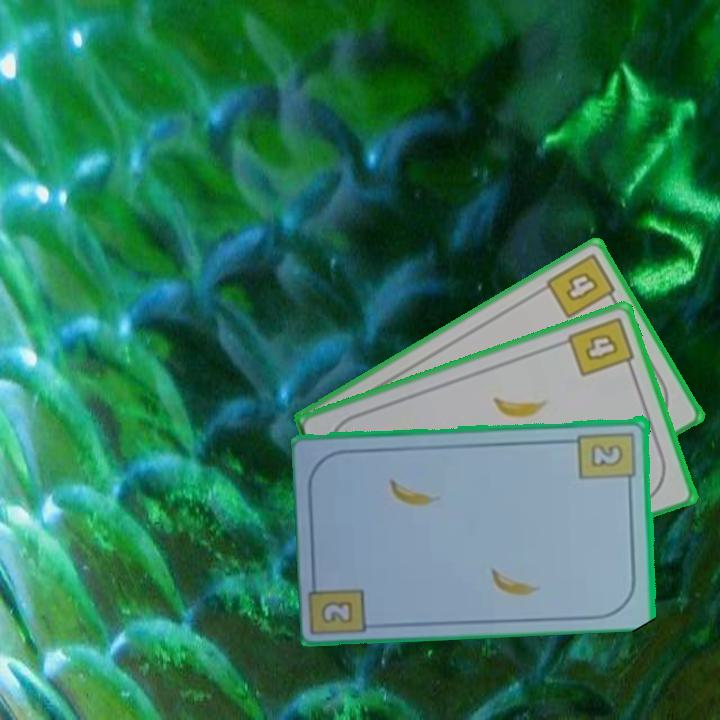2b: (576, 428, 639, 489), (317, 597, 356, 627)
4b: (542, 249, 622, 322), (564, 313, 638, 380)
